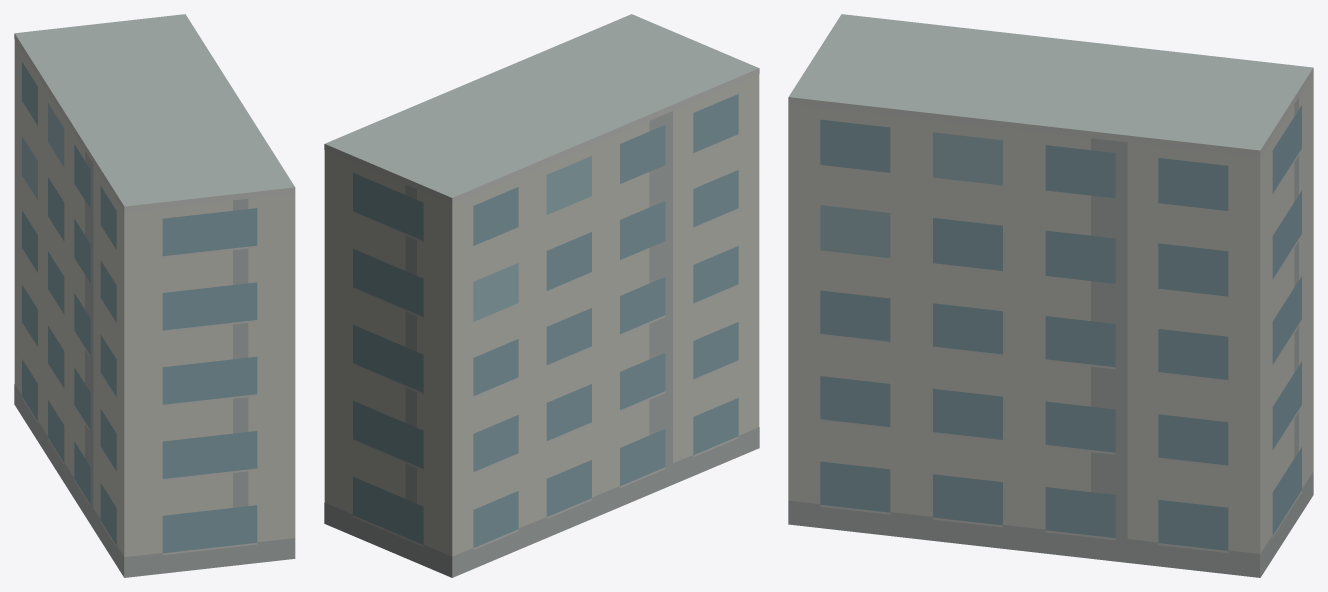
File: survey-upis-33032963.glb
The picture shows the model from 3 angles, left to right: view 1: azimuth 30°, elevation 25°; view 2: azimuth 150°, elevation 25°; view 3: azimuth 270°, elevation 25°; orthographic projection. The views are drawn at different scales.
Parts seen in each view (by area): view 1: survey-upis-33032963.tmp; view 2: survey-upis-33032963.tmp; view 3: survey-upis-33032963.tmp.
Part boxes in pixels (<box>): survey-upis-33032963.tmp: <box>14,14,295,577</box>; survey-upis-33032963.tmp: <box>324,14,759,577</box>; survey-upis-33032963.tmp: <box>788,14,1313,577</box>.
Size of the model in its own units: 10.28 by 15 by 16.71.
